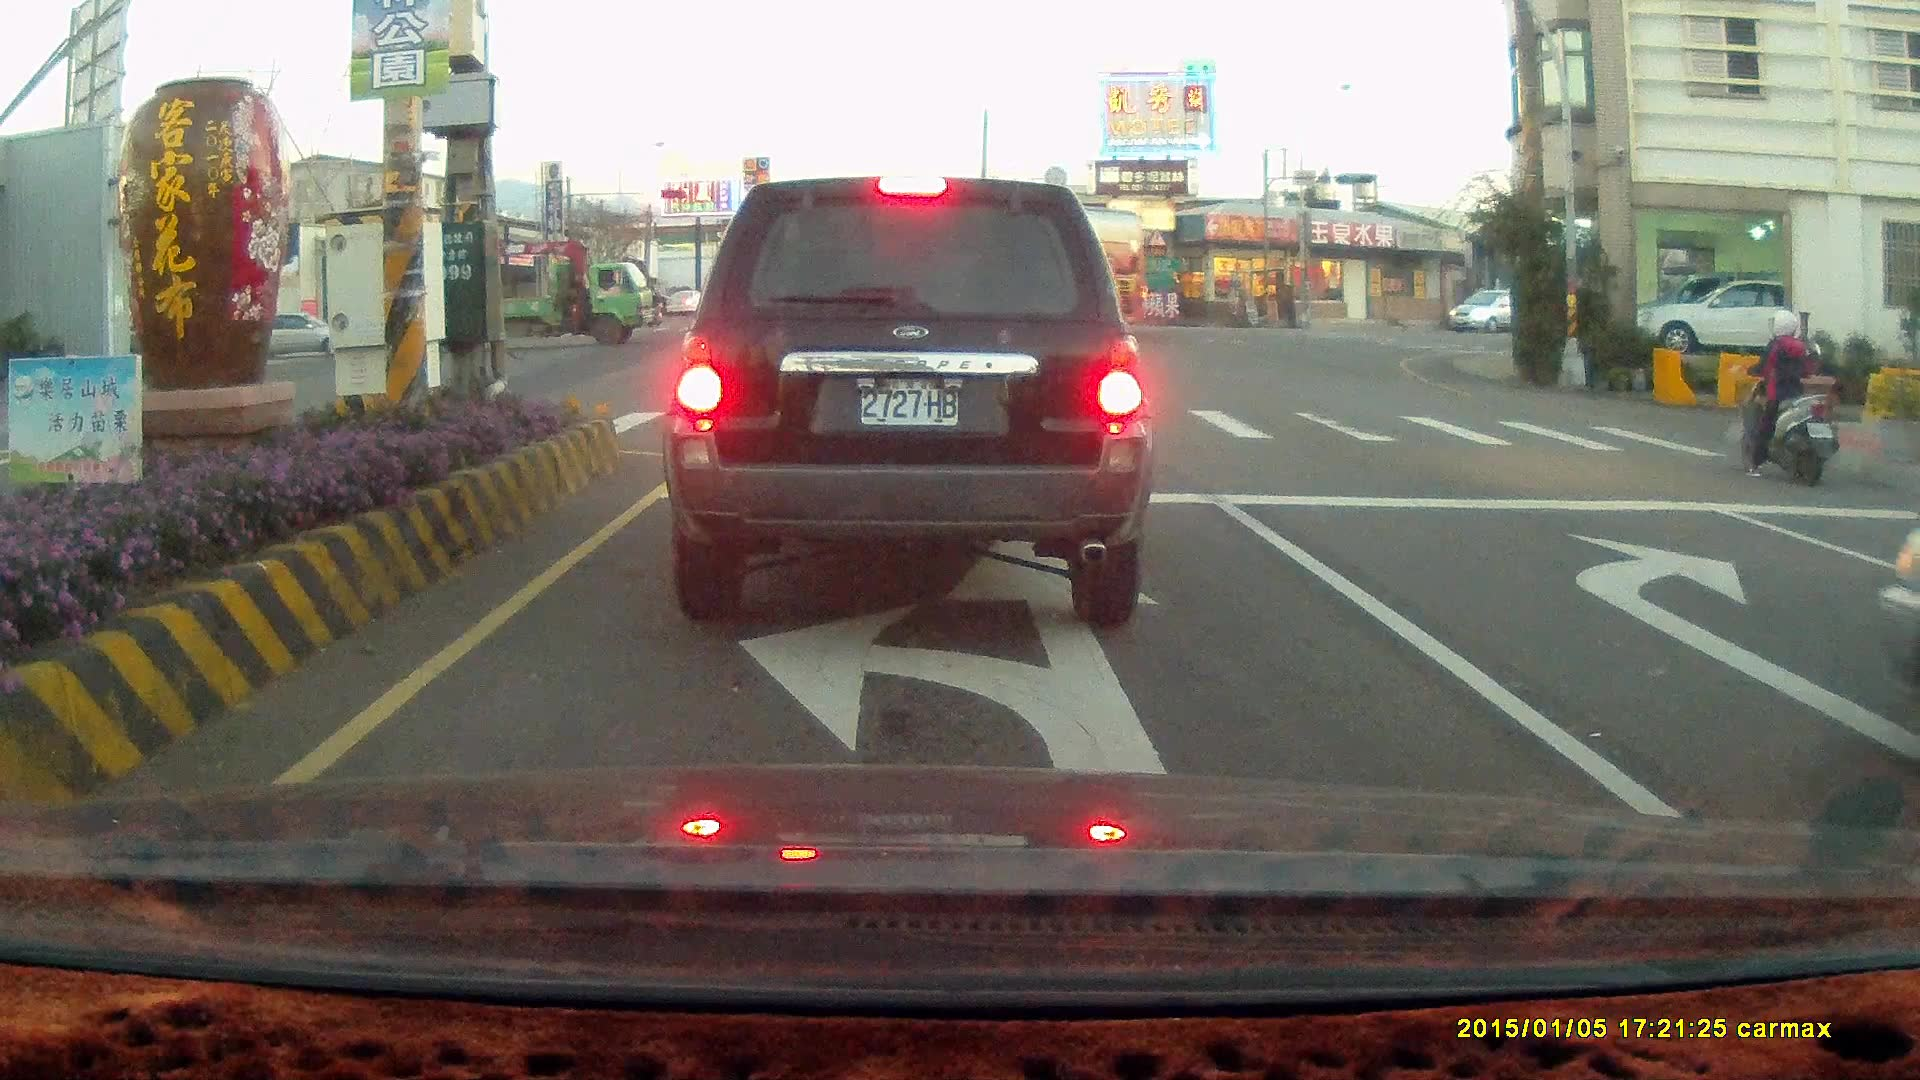rider: (1726, 304, 1836, 484)
vehicle: (660, 173, 1155, 630), (1627, 275, 1833, 355), (500, 254, 658, 347), (1642, 275, 1784, 356), (1874, 523, 1920, 713), (1896, 493, 1920, 836), (1449, 290, 1541, 337)
